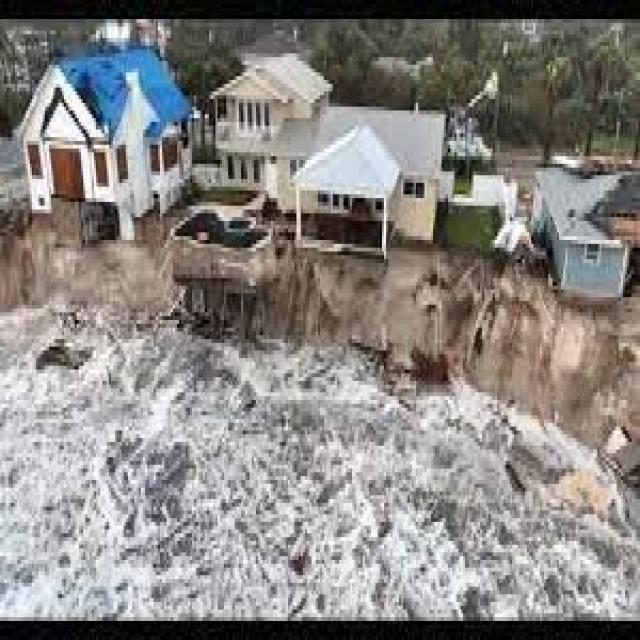Hurricane: (127, 116, 598, 503)
